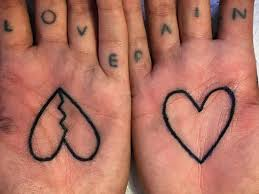palm: (154, 53, 250, 184), (19, 49, 115, 176)
